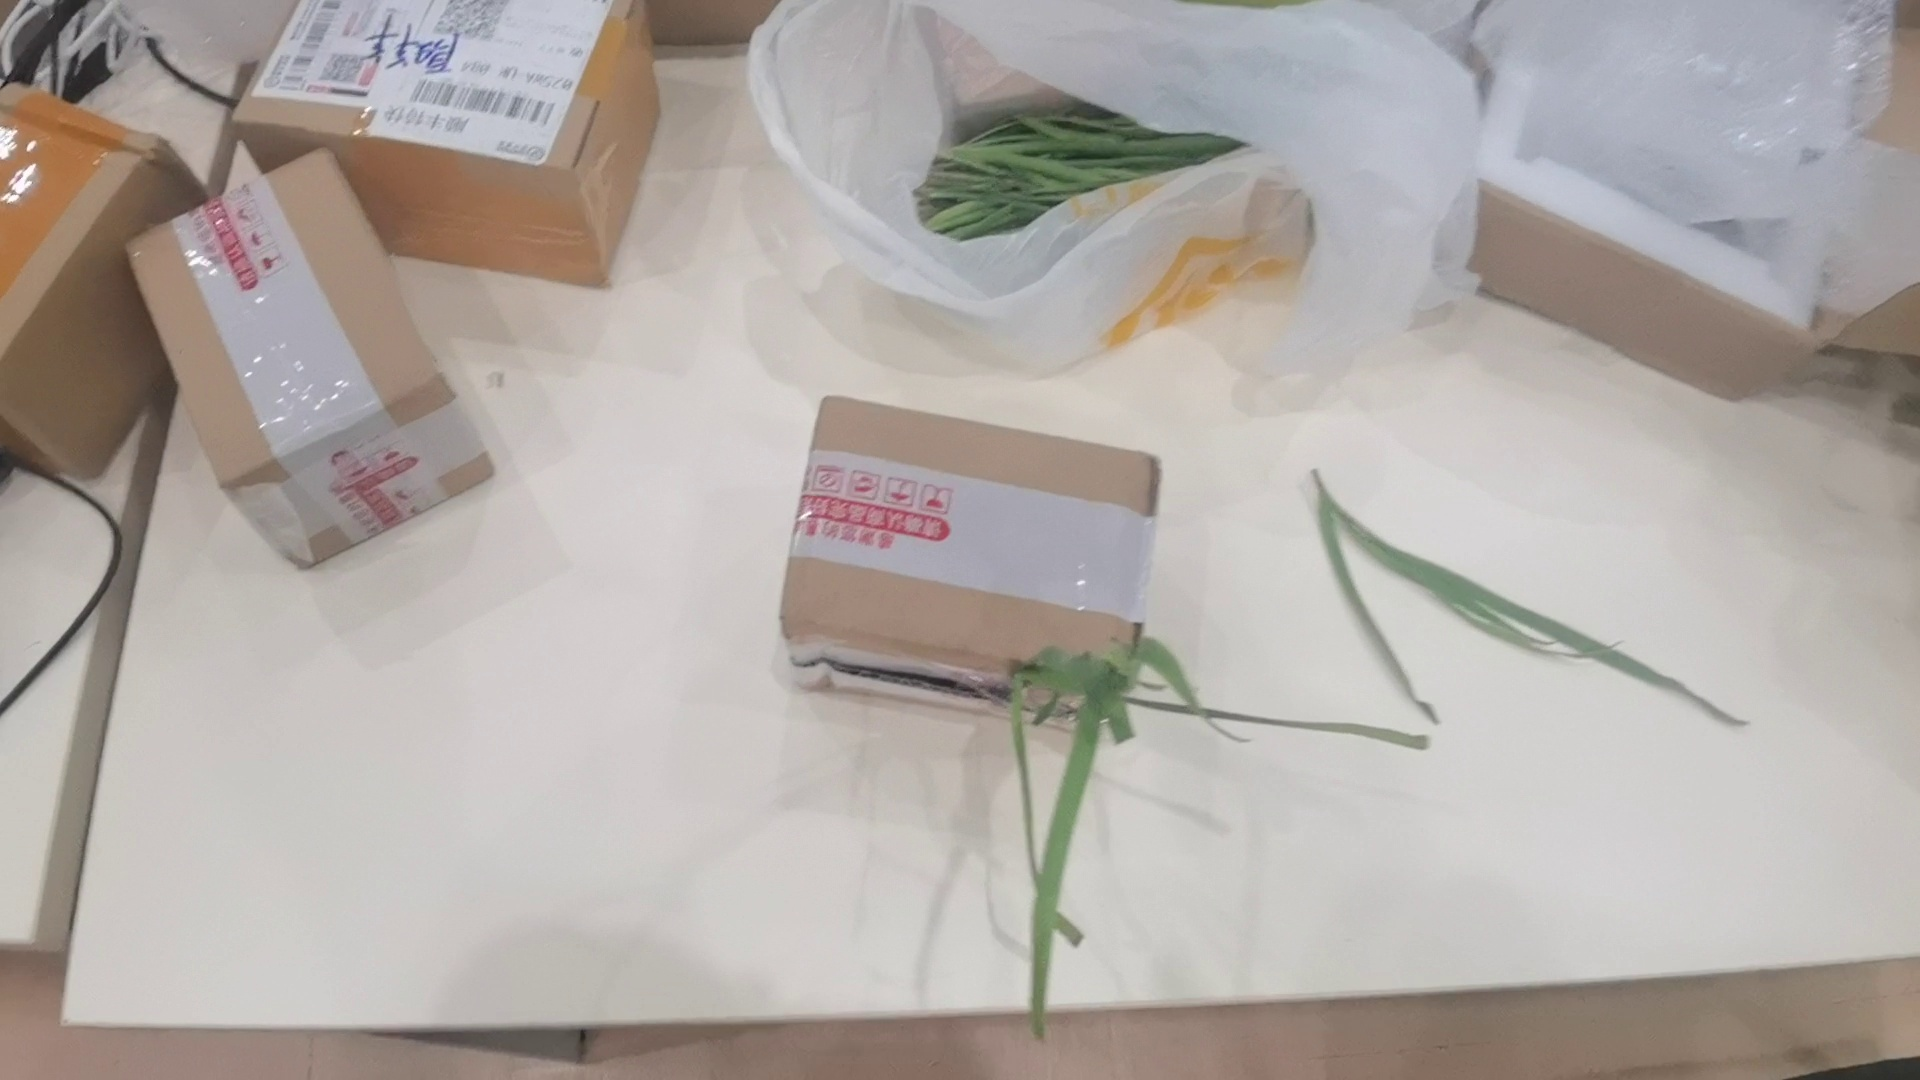chives: (957, 632, 1481, 978), (1305, 463, 1753, 748)
